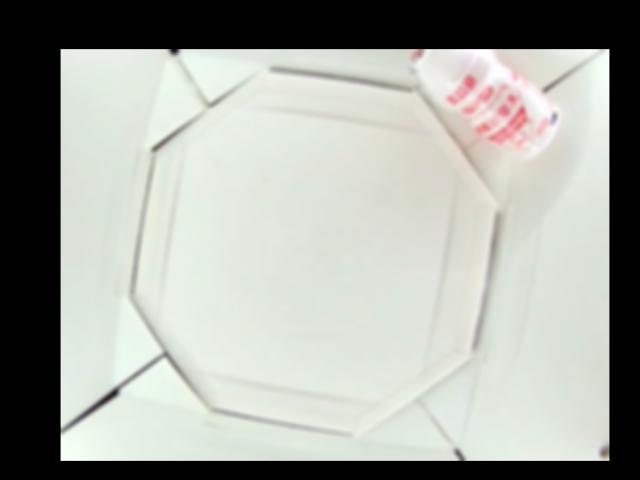Bottle: (406, 50, 563, 156)
